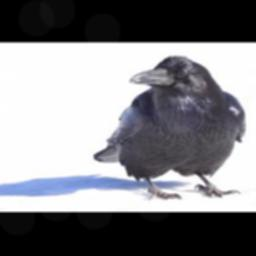Crow: (90, 54, 246, 200)
